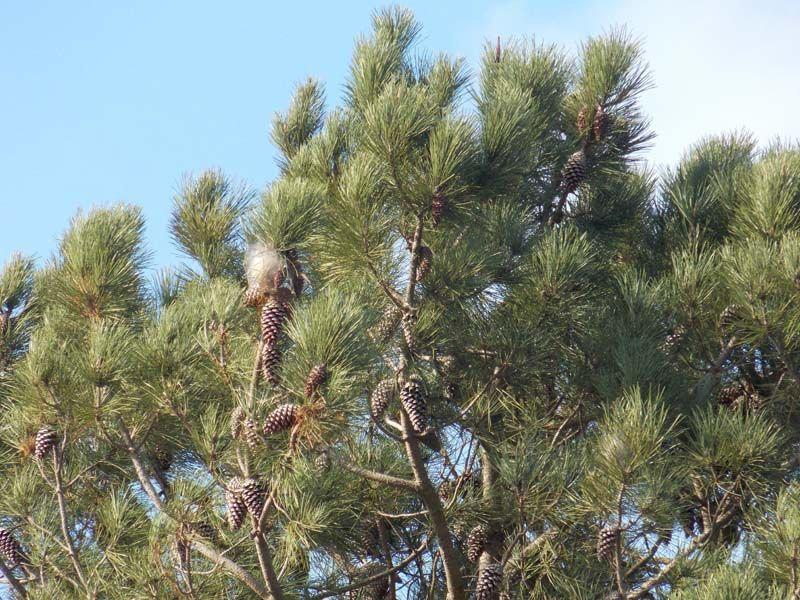thaumatopoea pityocampa jajno gnijezdo: (237, 235, 292, 309)
